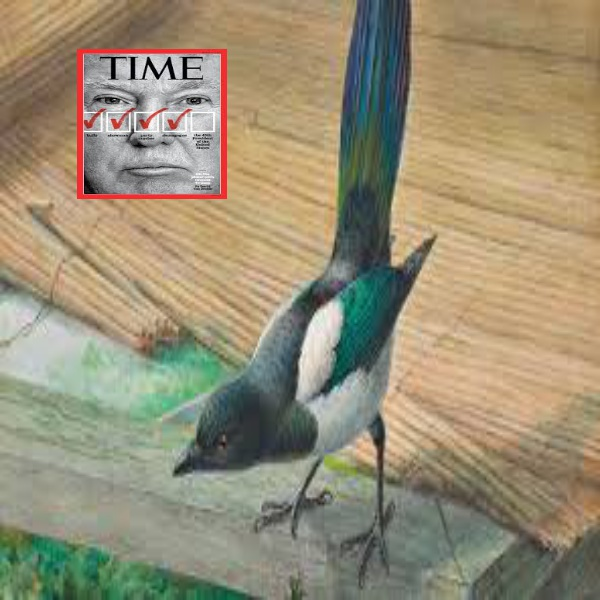time_cover: (70, 45, 226, 201)
